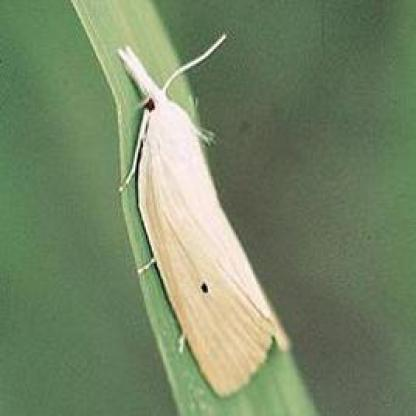stem-borer: (113, 35, 291, 398)
